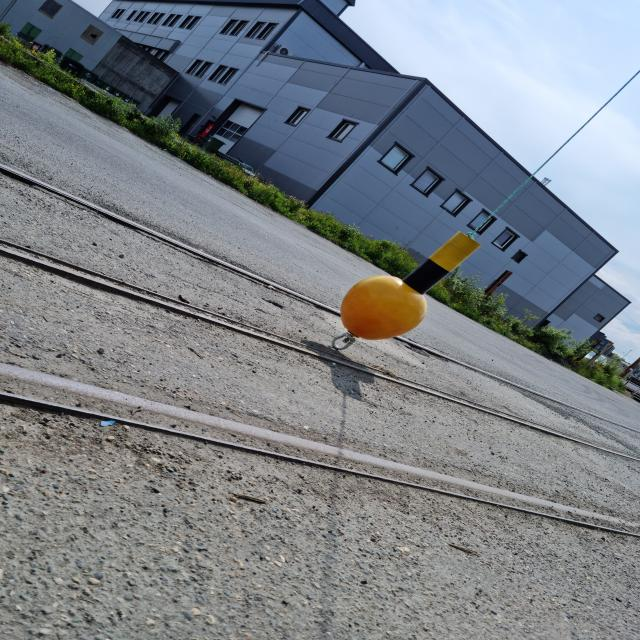west: (341, 229, 479, 339)
